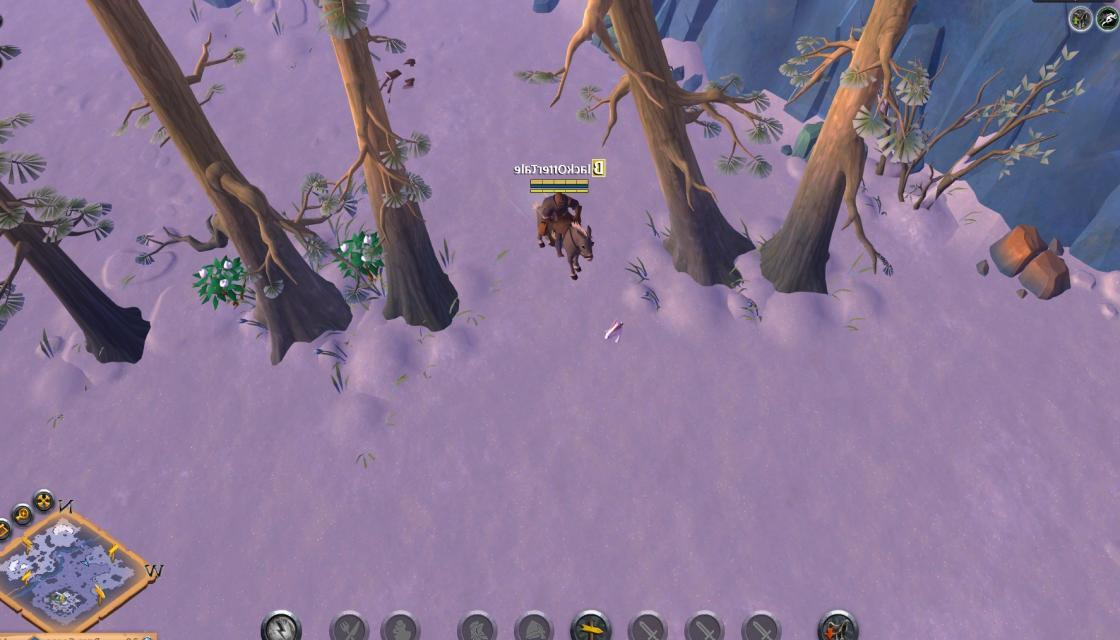limestone: (987, 220, 1074, 307)
